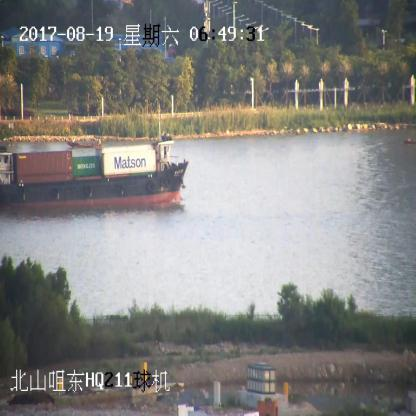Container Ship: (0, 128, 186, 206)
